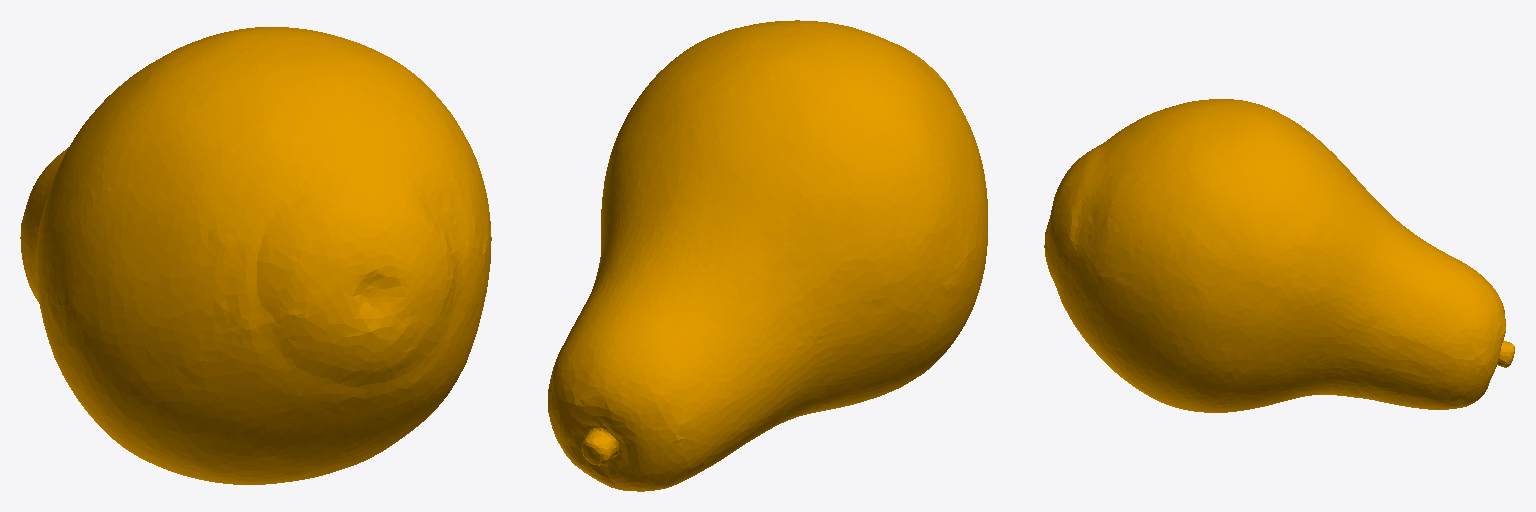
robot.urdf — pear:
<robot name="pear">
  <link name="pear">
    <inertial>
      <origin xyz="-0.032543 0.011076 0.030041" />
      <mass value="0.6" />
      <inertia  ixx="-0.062524" ixy="-0.940655"  ixz="0.333556"  iyy="-0.184411"  iyz="-0.657065"  izz="0.676022" />
    </inertial>
    <visual>
      <origin xyz="0.0 0 0.0"/>
      <geometry>
        <mesh filename="package://penguinpi_gazebo/models/pear/textured.dae"/>
      </geometry>
    </visual>
    <collision>
      <origin xyz="0.0 0 0.0"/>
      <geometry>
        <mesh filename="package://penguinpi_gazebo/models/pear/textured.dae"/>
      </geometry>
    </collision>
  </link>
</robot>

--- Facts derived from the render (not from the file) ---
3 views of the same robot in one strip: view 1: azimuth 30°, elevation 25°; view 2: azimuth 150°, elevation 25°; view 3: azimuth 270°, elevation 25° (orthographic).
Model pear with 1 links and 0 joints (none), rooted at pear, posed every joint at zero.
Links seen in each view (by area): view 1: pear; view 2: pear; view 3: pear.
Link boxes in pixels (left/top/right/bottom): pear: left=20, top=27, right=491, bottom=484; pear: left=548, top=20, right=987, bottom=491; pear: left=1044, top=99, right=1514, bottom=412.
Size in the robot's own frame: 0.0665 by 0.1005 by 0.0657 metres.
1 mesh visuals loaded from 1 distinct referenced files (1 Collada DAE).